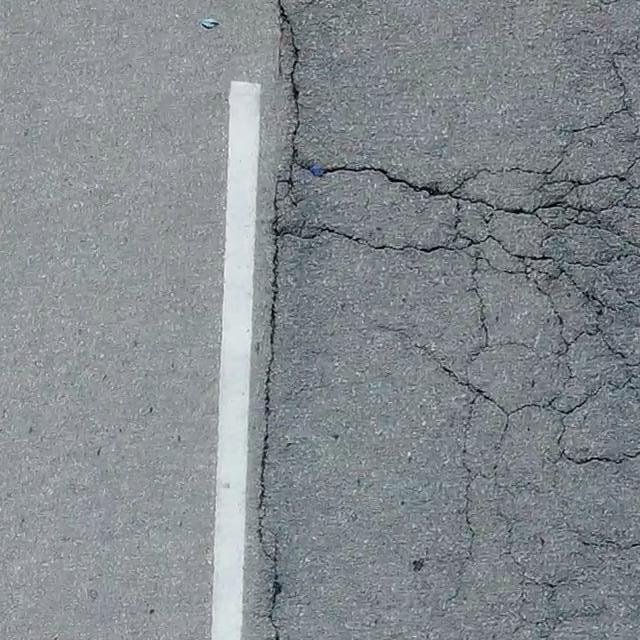GRIETA: (255, 0, 302, 639), (375, 325, 458, 384), (300, 165, 449, 196), (283, 227, 442, 254), (608, 52, 629, 99)
PIEL DE COCODRILO: (437, 103, 639, 639)
